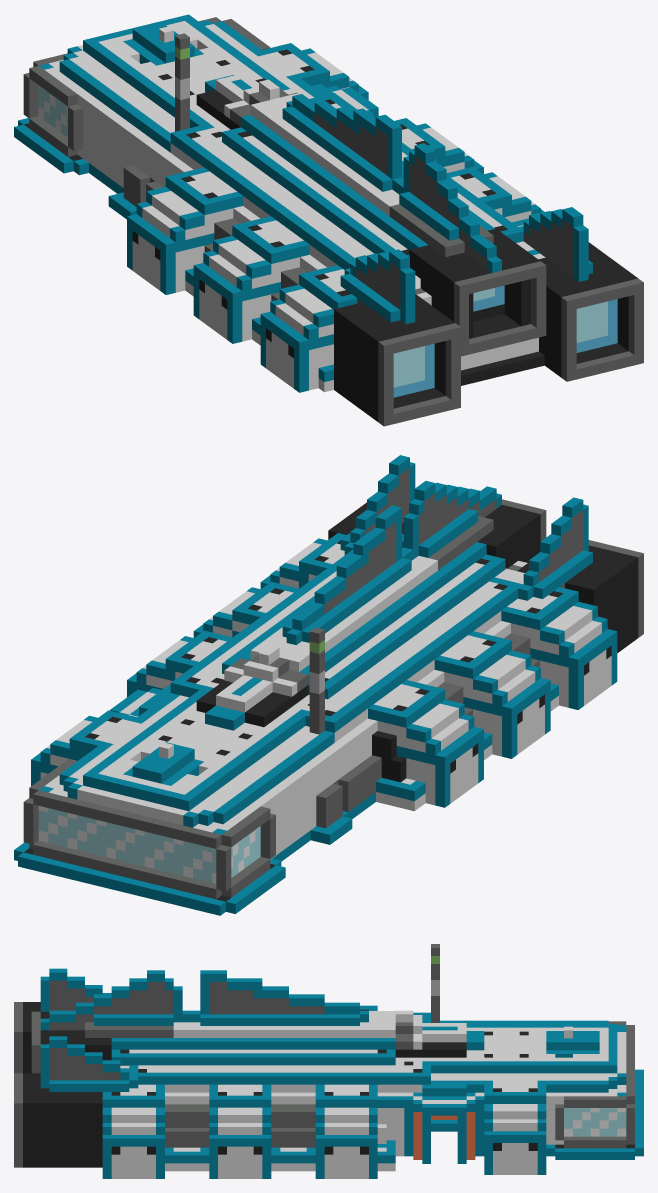
Rendered from spaceship mark3.obj.
The picture shows the model from 3 angles, top to bottom: view 1: azimuth 30°, elevation 25°; view 2: azimuth 150°, elevation 25°; view 3: azimuth 270°, elevation 25°; orthographic projection. The views are drawn at different scales.
Size of the model in its own units: 33 by 18 by 71.
